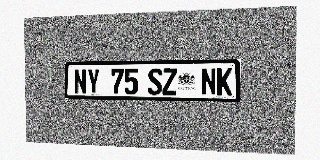5: (124, 68, 138, 95)
7: (110, 68, 124, 95)
K: (217, 68, 232, 96)
N: (201, 68, 216, 96), (74, 69, 87, 94)
S: (148, 68, 162, 95)
Y: (87, 69, 100, 94)
Z: (162, 68, 177, 95)
